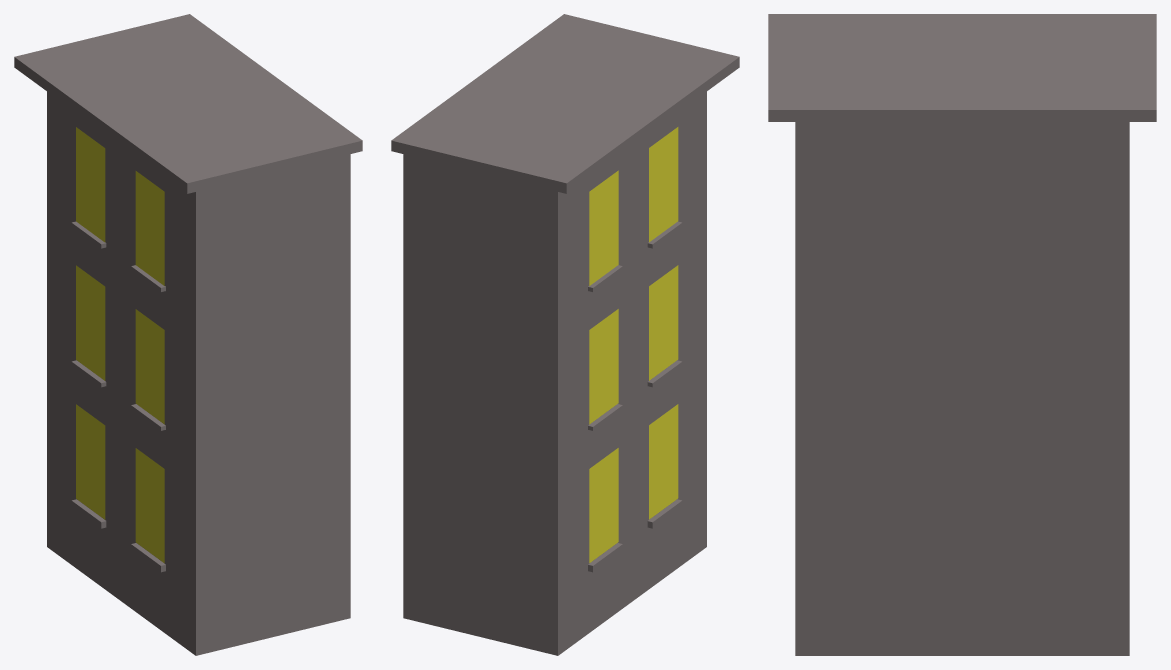
Rendered from haus1.fbx.
3 renders of one model, left to right at view 1: azimuth 30°, elevation 25°; view 2: azimuth 150°, elevation 25°; view 3: azimuth 270°, elevation 25°, orthographic. The views are drawn at different scales.
Parts seen in each view (by area): view 1: Haus, window2, window6, window3, window1, window4, window5; view 2: Haus, window1, window3, window4, window5, window6, window2; view 3: Haus.
Boxes of the visible parts, x1,y1,x2,y2 form: Haus: (14,14,362,655); window2: (76,404,105,519); window6: (76,127,105,242); window3: (135,309,164,424); window1: (135,448,164,562); window4: (76,265,105,380); window5: (135,171,164,285); Haus: (391,14,739,655); window1: (649,404,678,519); window3: (649,265,678,380); window4: (589,309,618,424); window5: (649,127,678,242); window6: (589,170,618,285); window2: (589,448,618,562); Haus: (768,14,1156,655).
Size of the model in its own units: 340 by 900 by 580.
